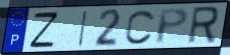2: (93, 7, 122, 49)
C: (123, 8, 157, 46)
I: (76, 10, 90, 48)
P: (154, 7, 190, 46)
R: (185, 5, 221, 46)
Z: (28, 10, 60, 49)
